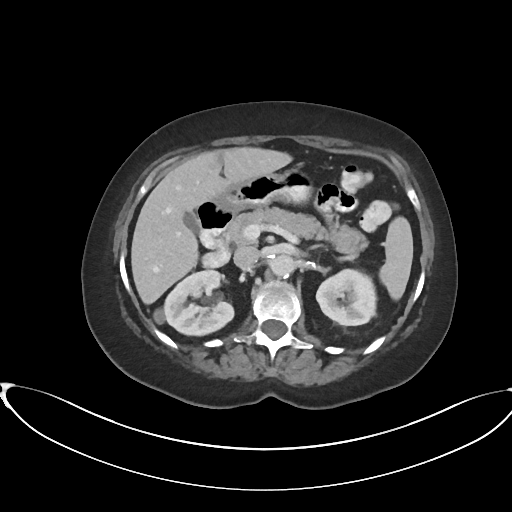Lesion: (149, 304, 171, 328)
